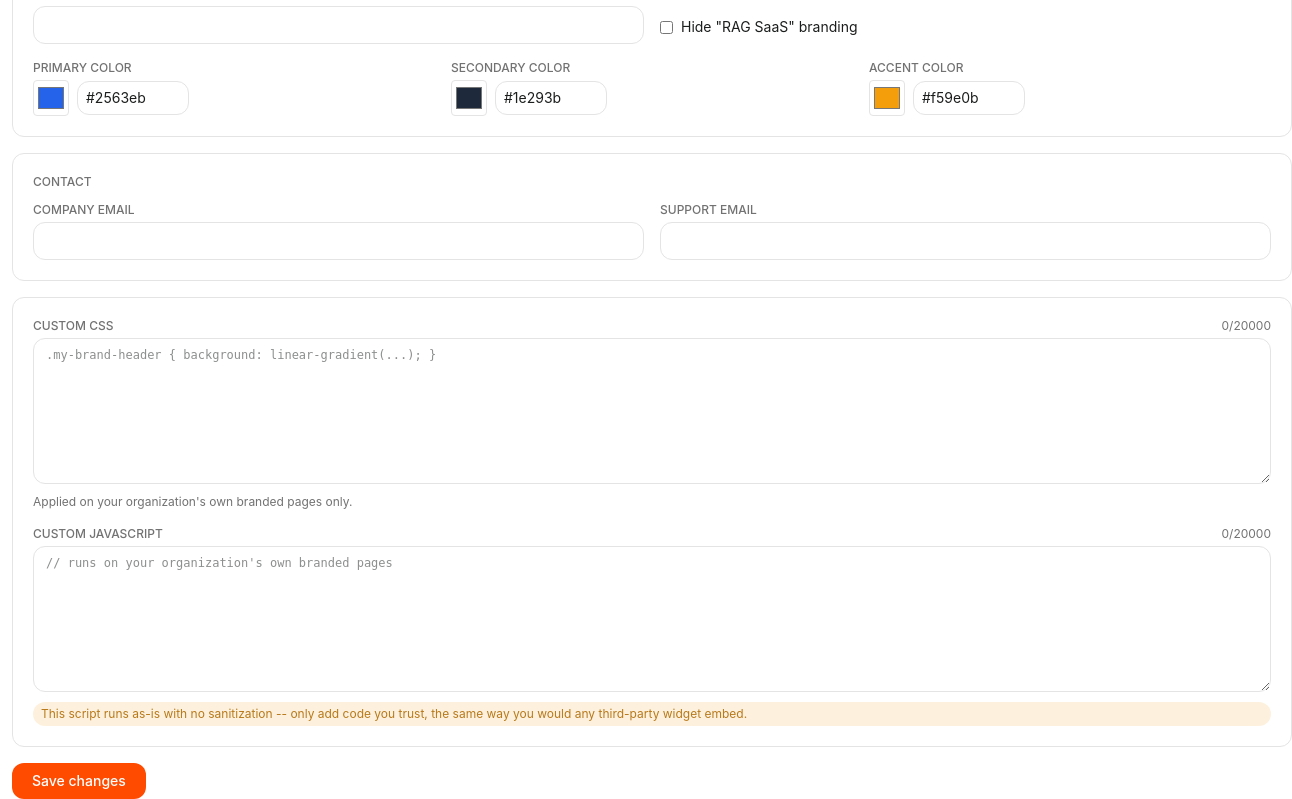
Scenario: WhiteLabelConfig › shows 'Saved' briefly after a successful save
(page scrolled)
Click the button "Save changes" at (79, 781), box x1=12 y1=763 x2=146 y2=798
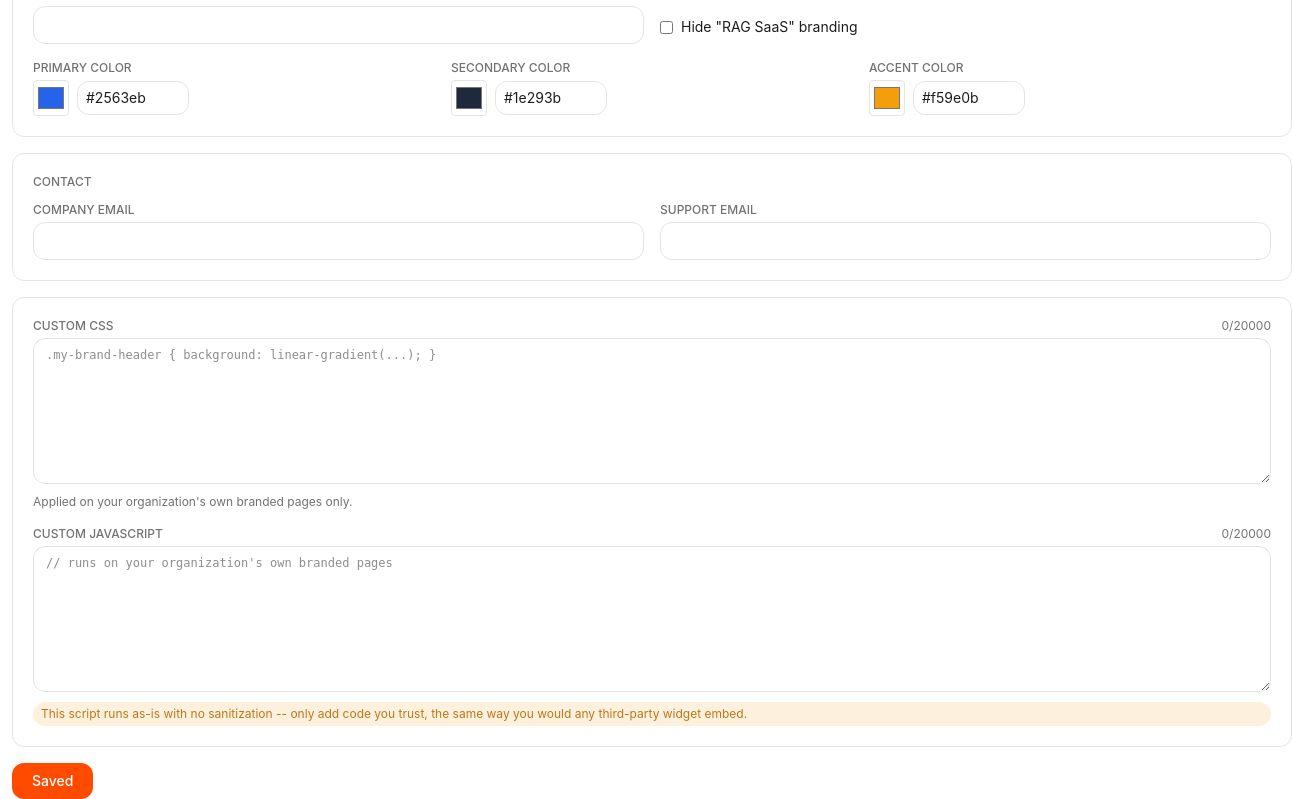
Result: the button "Saved" is shown at x1=12 y1=763 x2=93 y2=798
